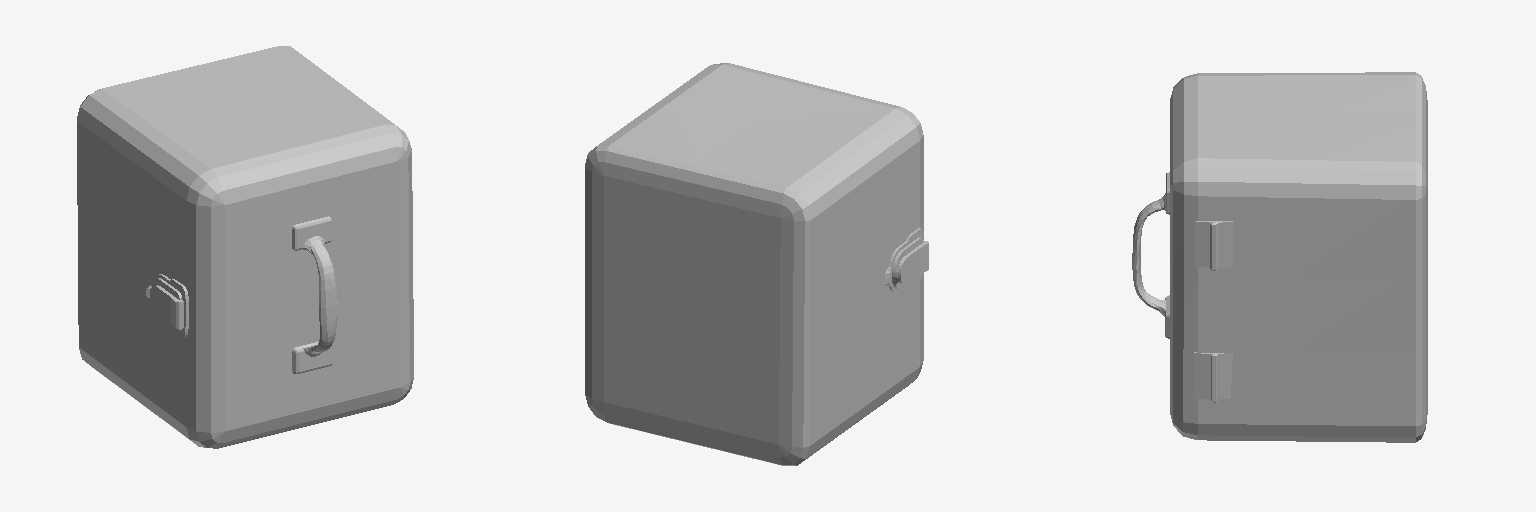
Rendered from HpBox.obj.
The picture shows the model from 3 angles: view 1: azimuth 30°, elevation 25°; view 2: azimuth 150°, elevation 25°; view 3: azimuth 270°, elevation 25°; orthographic projection.
Parts seen in each view (by area): view 1: ChamferBox001__0; view 2: ChamferBox001__0; view 3: ChamferBox001__0.
Boxes of the visible parts, box(x1,y1,x2,y2) form: ChamferBox001__0: box(77, 46, 413, 448); ChamferBox001__0: box(585, 63, 928, 465); ChamferBox001__0: box(1132, 72, 1427, 442).
Size of the model in its own units: 0.8935 by 0.9911 by 0.9463.